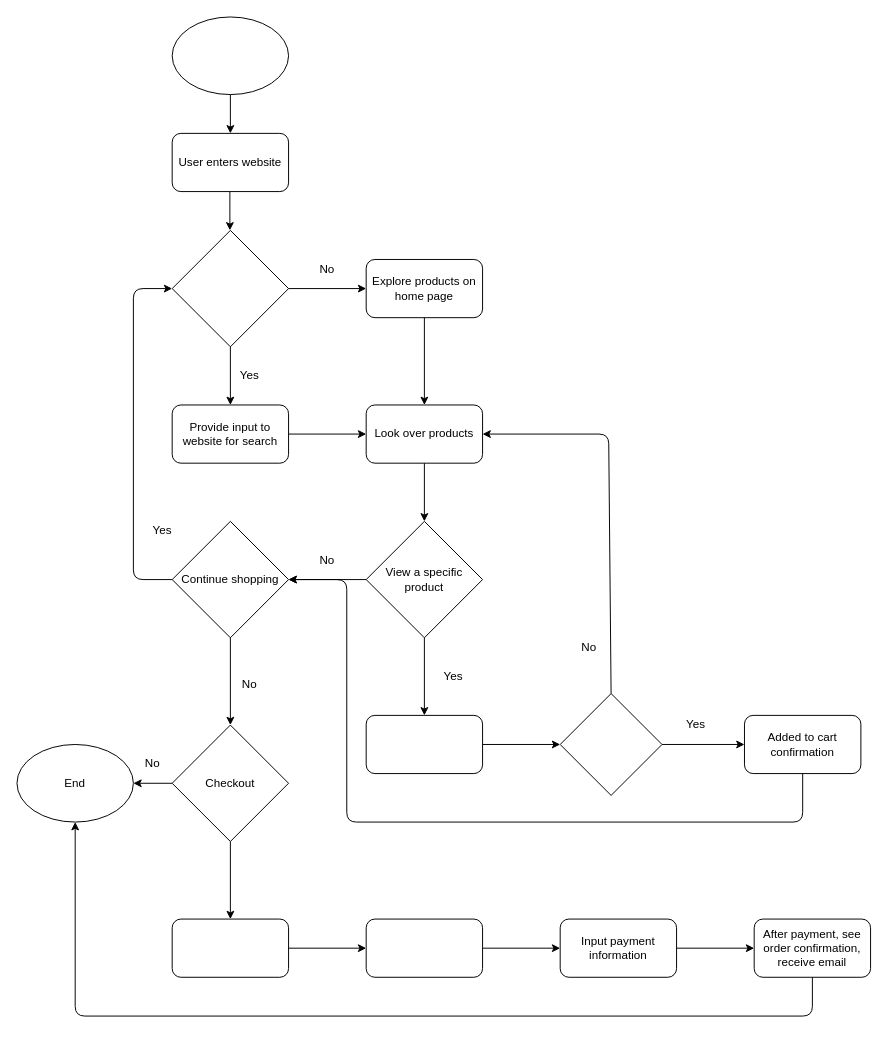
Some shapes in this 888 by 1041 pixel diagram are drawn without their labels. The box of each missing label's shape, as (x1, y1, x2, y2) in pixels:
Add product to cart: (559, 693, 662, 795)
Product webpage opens: (365, 714, 483, 774)
Search products: (171, 229, 289, 347)
Start: (171, 16, 289, 95)
View Cart screen: (171, 918, 289, 977)
View Payment screen: (365, 918, 483, 977)
